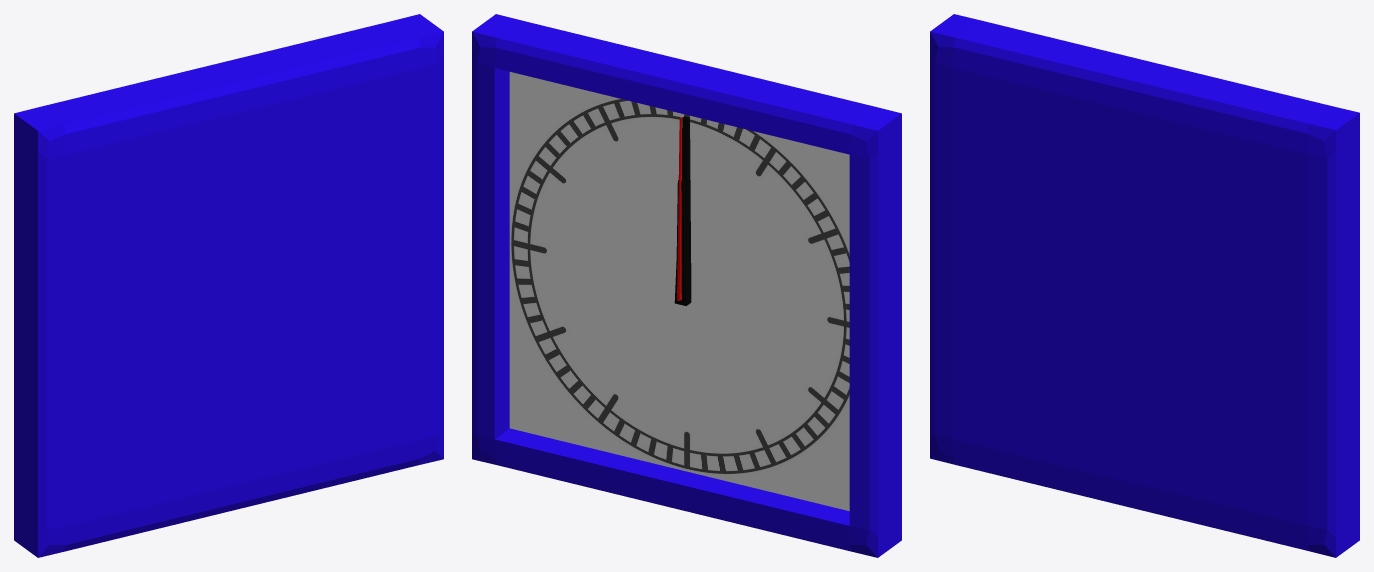
File: Clock2.fbx
3 views of the same model, side by side, from view 1: azimuth 30°, elevation 25°; view 2: azimuth 150°, elevation 25°; view 3: azimuth 330°, elevation 25° (orthographic).
Visible parts, largest first — view 1: Cube; view 2: Cube, Minutes, Hours, Seconds; view 3: Cube.
Part boxes in pixels (x1,y1,x2,y2): Cube: (14,14,443,557); Cube: (472,14,901,557); Minutes: (674,116,691,305); Hours: (676,179,685,300); Seconds: (677,117,681,300); Cube: (930,14,1359,557).
Size of the model in its own units: 199 by 200 by 25.15.
